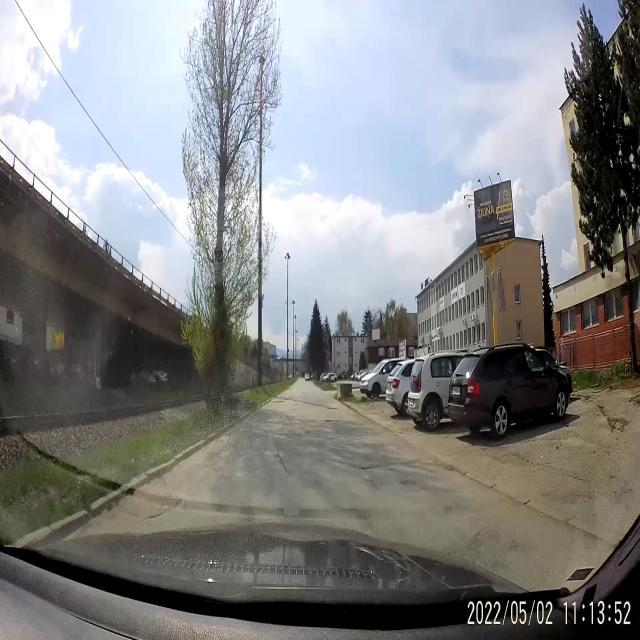Pothole: (144, 493, 182, 522), (271, 442, 287, 482), (398, 470, 420, 498), (355, 452, 378, 478), (324, 413, 344, 425)
